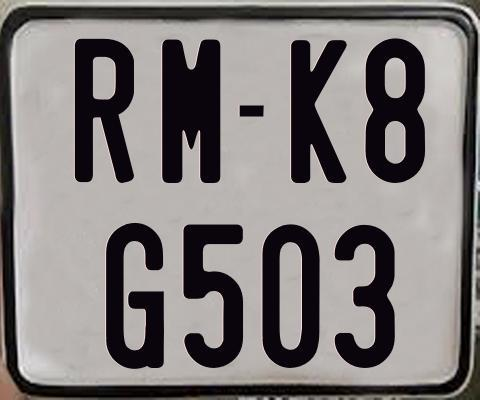0: (259, 222, 317, 369)
3: (334, 223, 396, 369)
5: (183, 223, 244, 367)
8: (363, 36, 425, 181)
G: (104, 223, 165, 369)
K: (289, 40, 351, 186)
M: (160, 39, 220, 187)
R: (73, 37, 138, 186)
